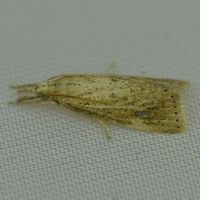insect: (10, 72, 189, 140)
